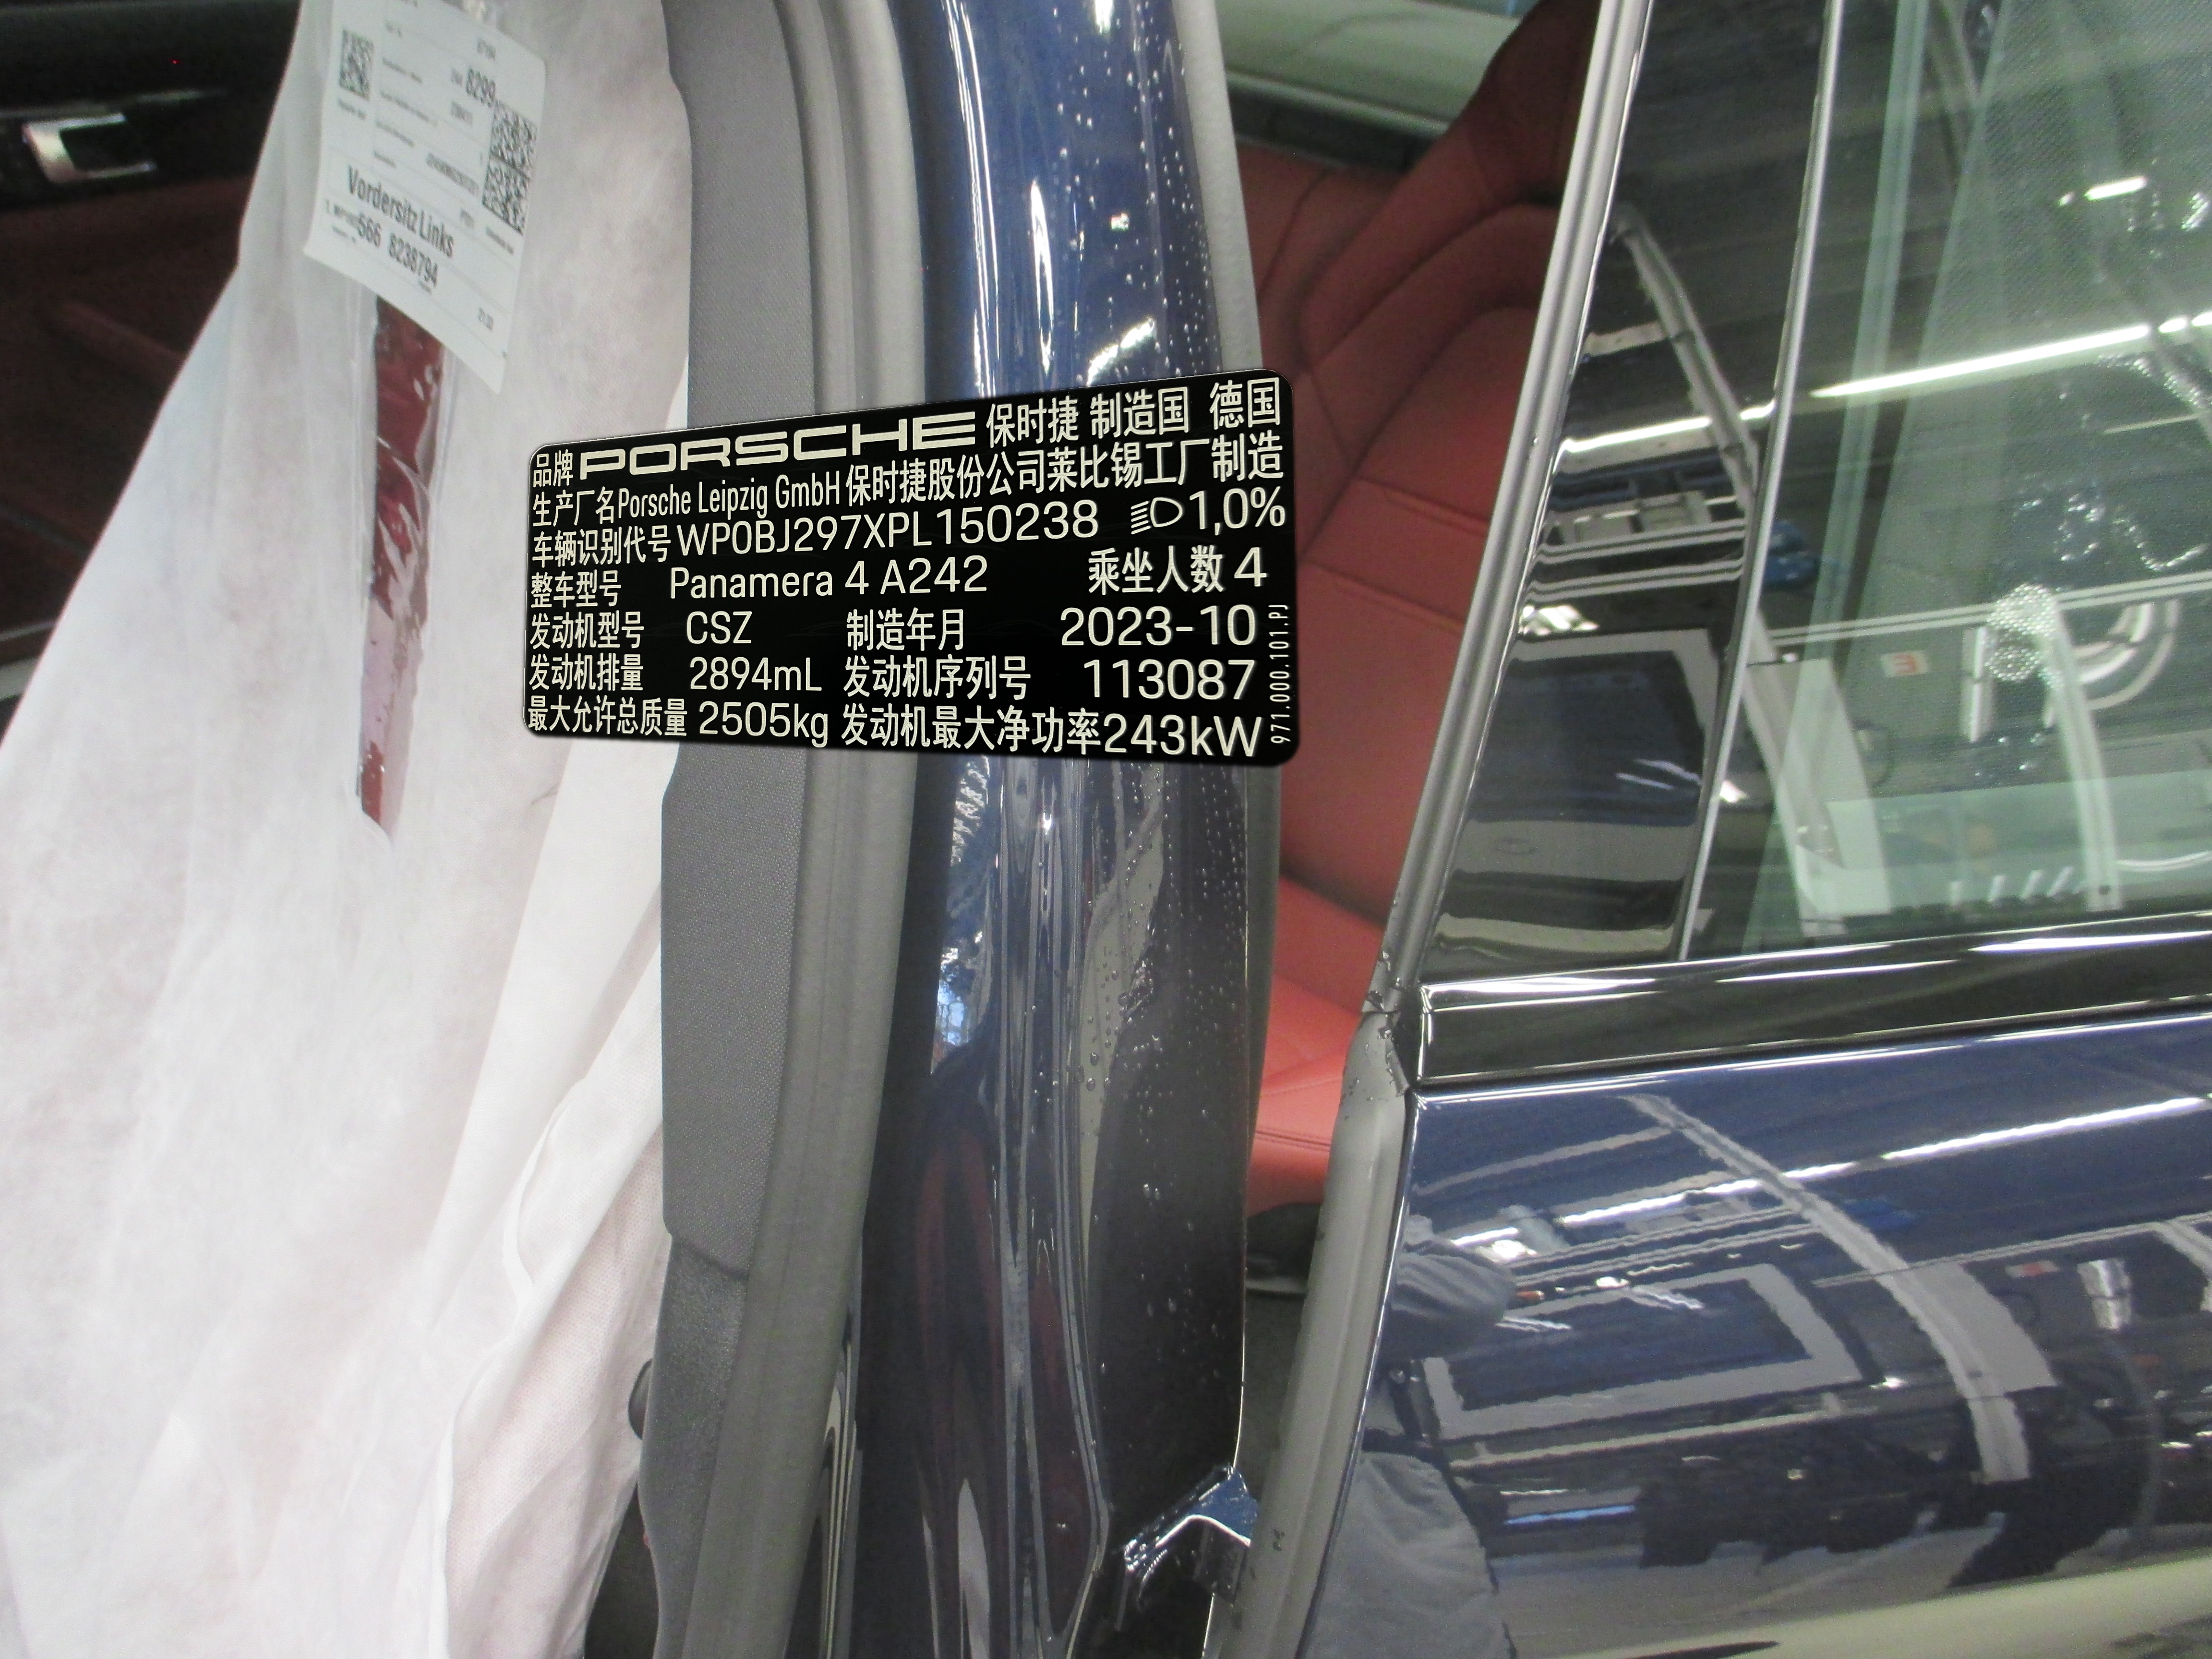Typlabel-China: (523, 369, 1299, 767)
